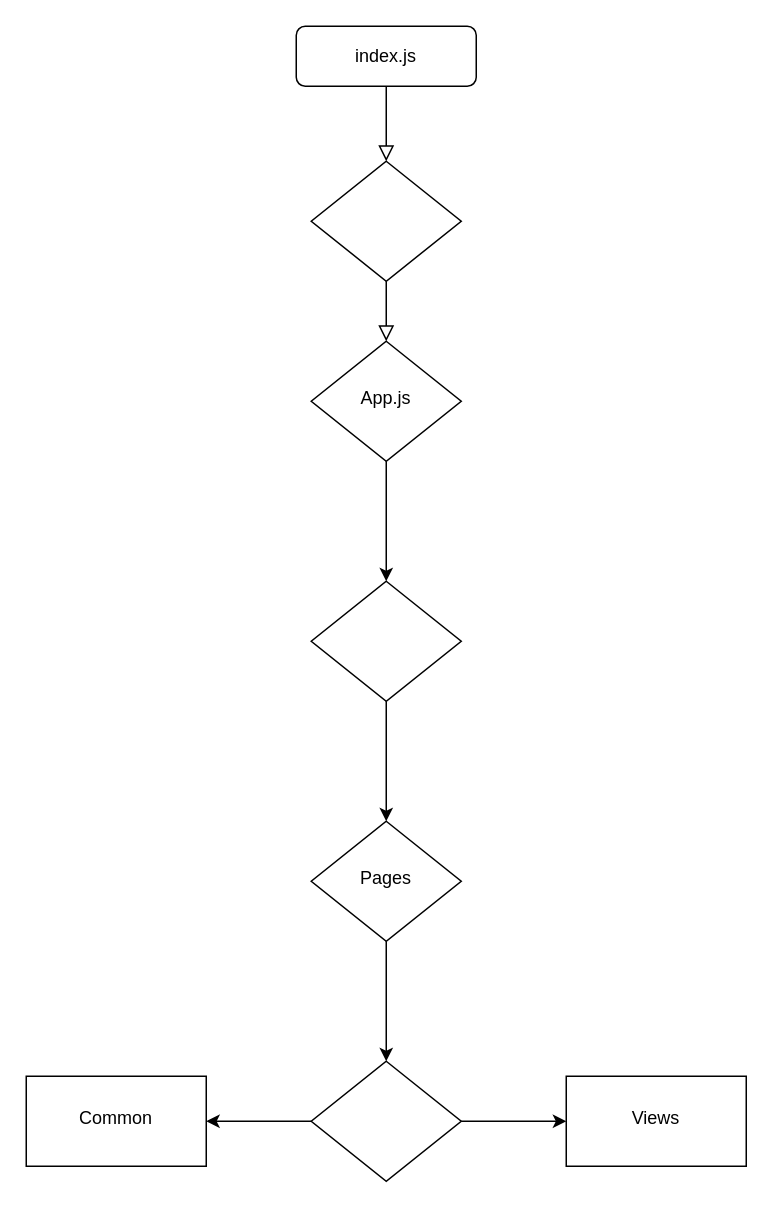
Some shapes in this 773 by 1208 pixel diagram are drawn without their labels. The box of each missing label's shape, as (x1, y1, x2, y2) in pixels:
Components: (310, 1060, 461, 1181)
Context Api: (310, 160, 461, 281)
Routes: (310, 580, 461, 701)
